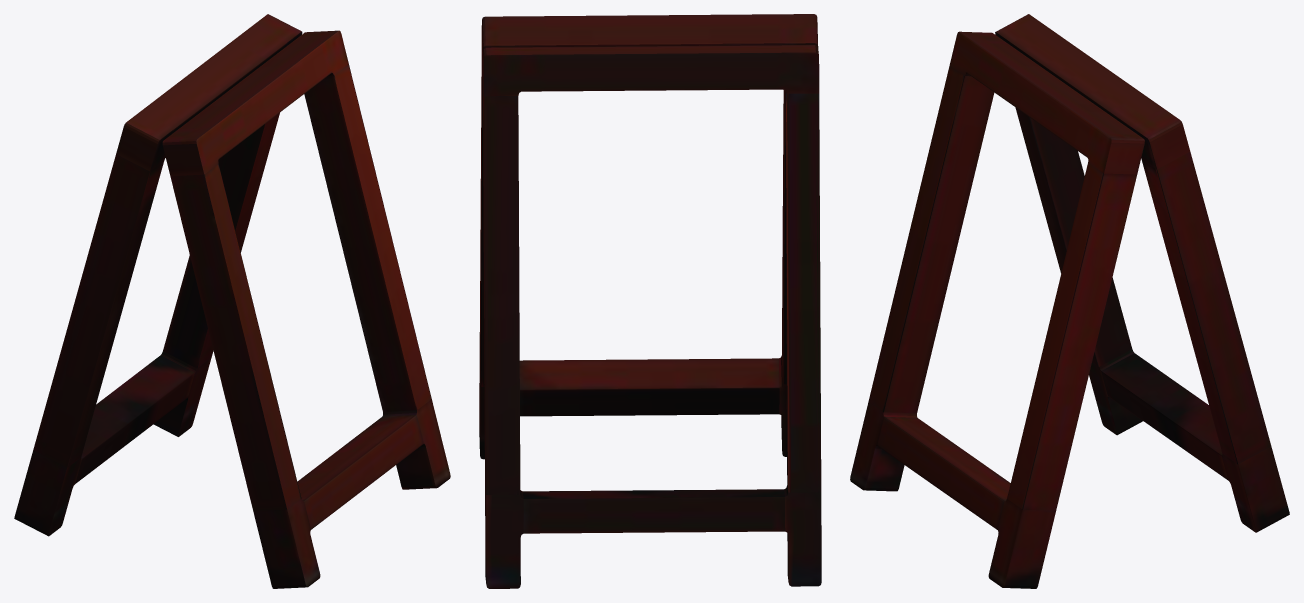
File: icon_wa.glb
The picture shows the model from 3 angles, left to right: view 1: azimuth 30°, elevation 25°; view 2: azimuth 150°, elevation 25°; view 3: azimuth 270°, elevation 25°; orthographic projection. The views are drawn at different scales.
Parts seen in each view (by area): view 1: icon_wa1; view 2: icon_wa1; view 3: icon_wa1.
Part boxes in pixels (x1=…): icon_wa1: x1=14, y1=14, x2=450, y2=588; icon_wa1: x1=479, y1=14, x2=821, y2=588; icon_wa1: x1=850, y1=14, x2=1289, y2=588.
Size of the model in its own units: 0.223 by 0.2483 by 0.2291.
Materials: 1 (1 with a texture image).
